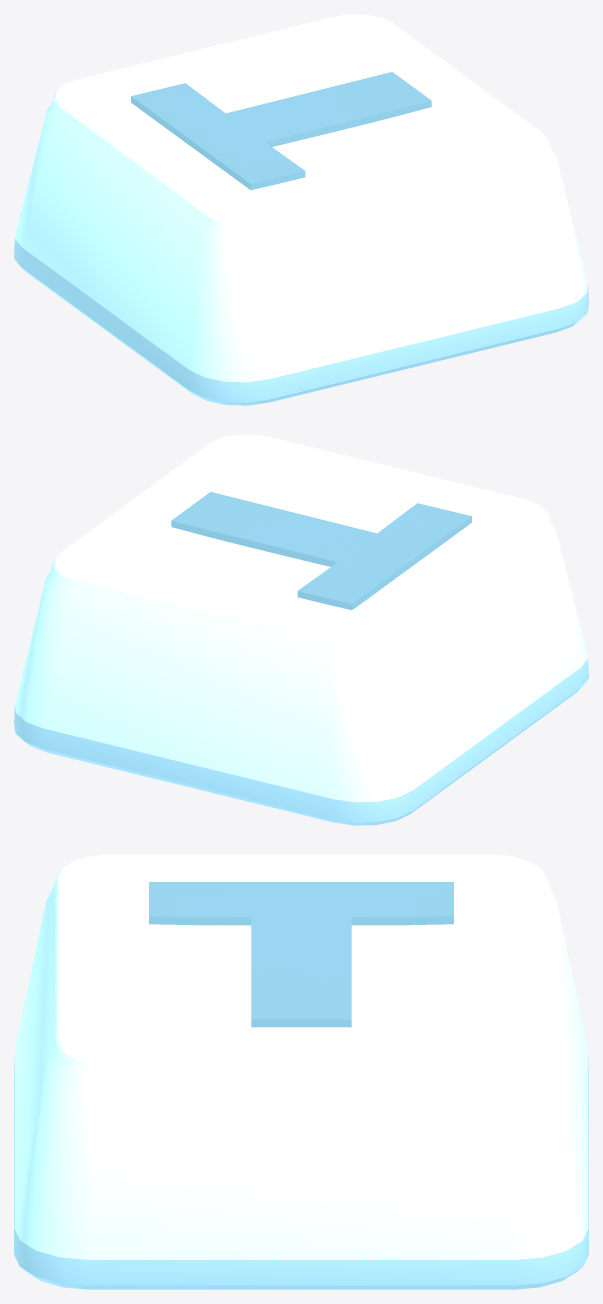
Rendered from props__Key_T.glb.
3 renders of one model, top to bottom at view 1: azimuth 30°, elevation 25°; view 2: azimuth 150°, elevation 25°; view 3: azimuth 270°, elevation 25°, orthographic. The views are drawn at different scales.
Parts seen in each view (by area): view 1: Key_T; view 2: Key_T; view 3: Key_T.
Boxes of the visible parts, x1,y1,x2,y2 form: Key_T: (14, 14, 588, 405); Key_T: (14, 434, 588, 825); Key_T: (14, 854, 588, 1289).
Bounding box in the file's own units: 3.9 × 1.65 × 3.9.
